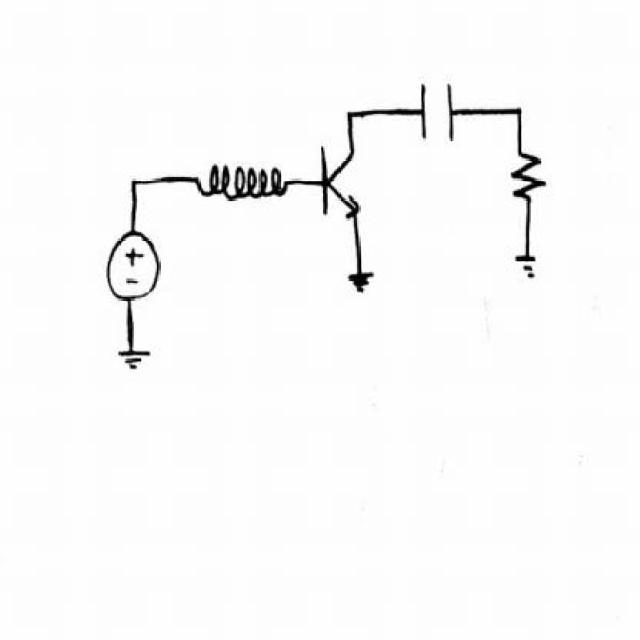ground: (506, 240, 553, 288), (108, 341, 163, 382), (339, 262, 386, 303)
inductor: (190, 163, 296, 218)
transistor: (311, 137, 368, 221)
voltage_source: (102, 223, 169, 307)
